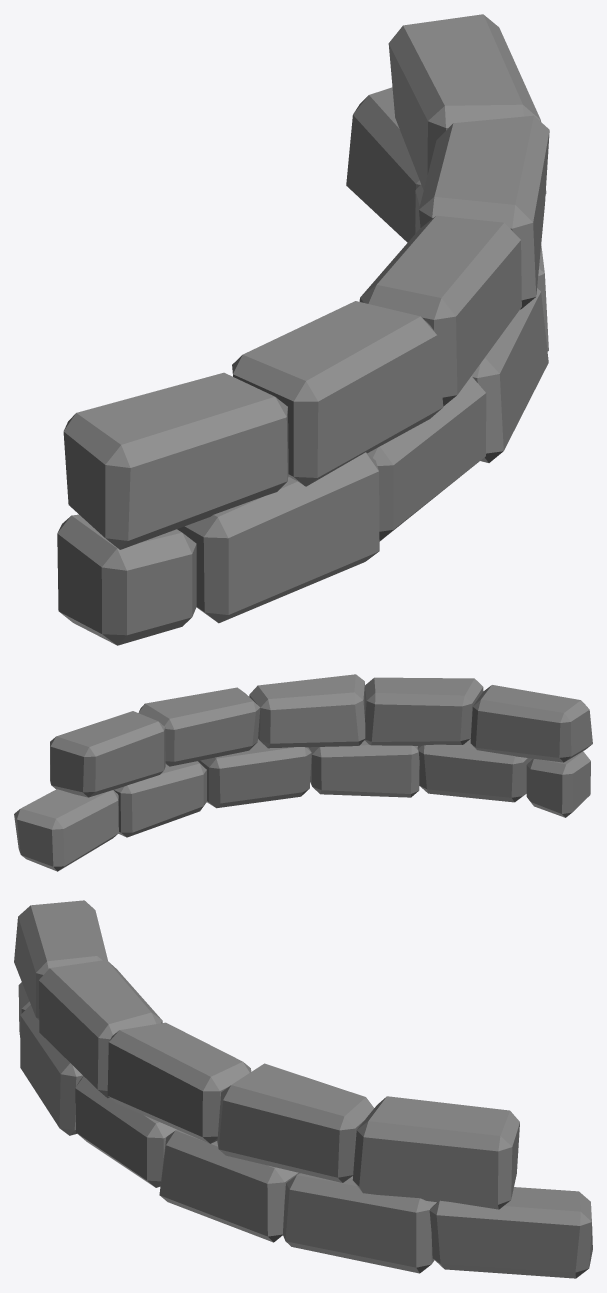
The model's file is BrickWall2mSection_01_T90_End_R.fbx.
3 renders of one model, top to bottom at view 1: azimuth 30°, elevation 25°; view 2: azimuth 150°, elevation 25°; view 3: azimuth 270°, elevation 25°, orthographic. The views are drawn at different scales.
Parts seen in each view (by area): view 1: BrickWall2mSection_01_T90_End_R; view 2: BrickWall2mSection_01_T90_End_R; view 3: BrickWall2mSection_01_T90_End_R.
Boxes of the visible parts, bbox=[...] form: BrickWall2mSection_01_T90_End_R: bbox=[57, 14, 549, 645]; BrickWall2mSection_01_T90_End_R: bbox=[14, 674, 592, 871]; BrickWall2mSection_01_T90_End_R: bbox=[14, 900, 592, 1278].
Bounding box in the file's own units: 154 × 41.78 × 149.
